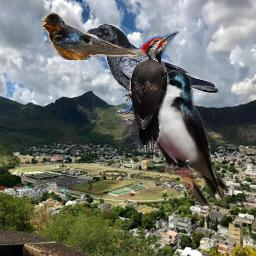Crow: (86, 24, 219, 124)
Swallow: (145, 69, 230, 206), (41, 12, 147, 60)
Woodpecker: (119, 30, 183, 153)
